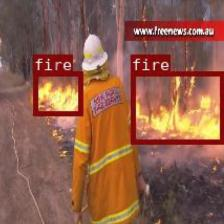fire: (130, 71, 223, 143), (32, 71, 82, 115)
